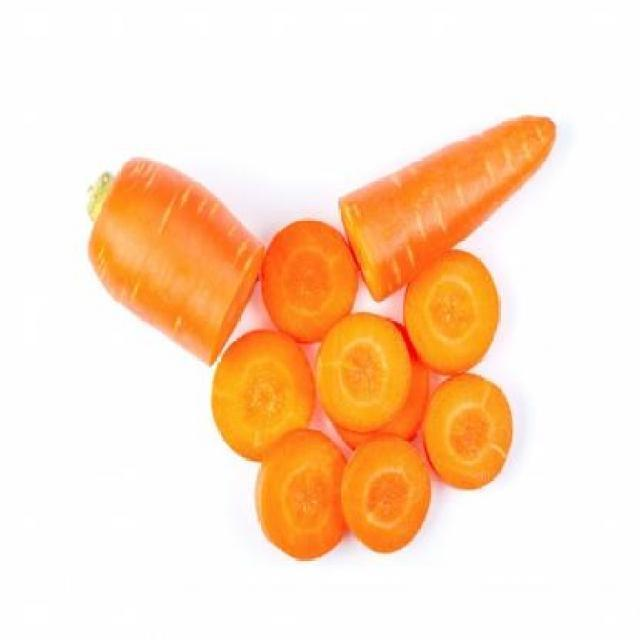carrot: (334, 109, 558, 303), (83, 148, 271, 372)
